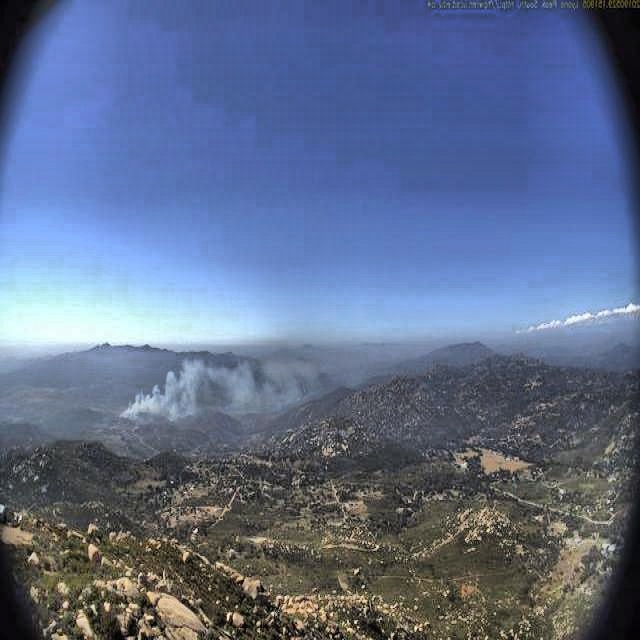smoke: (122, 351, 341, 424)
